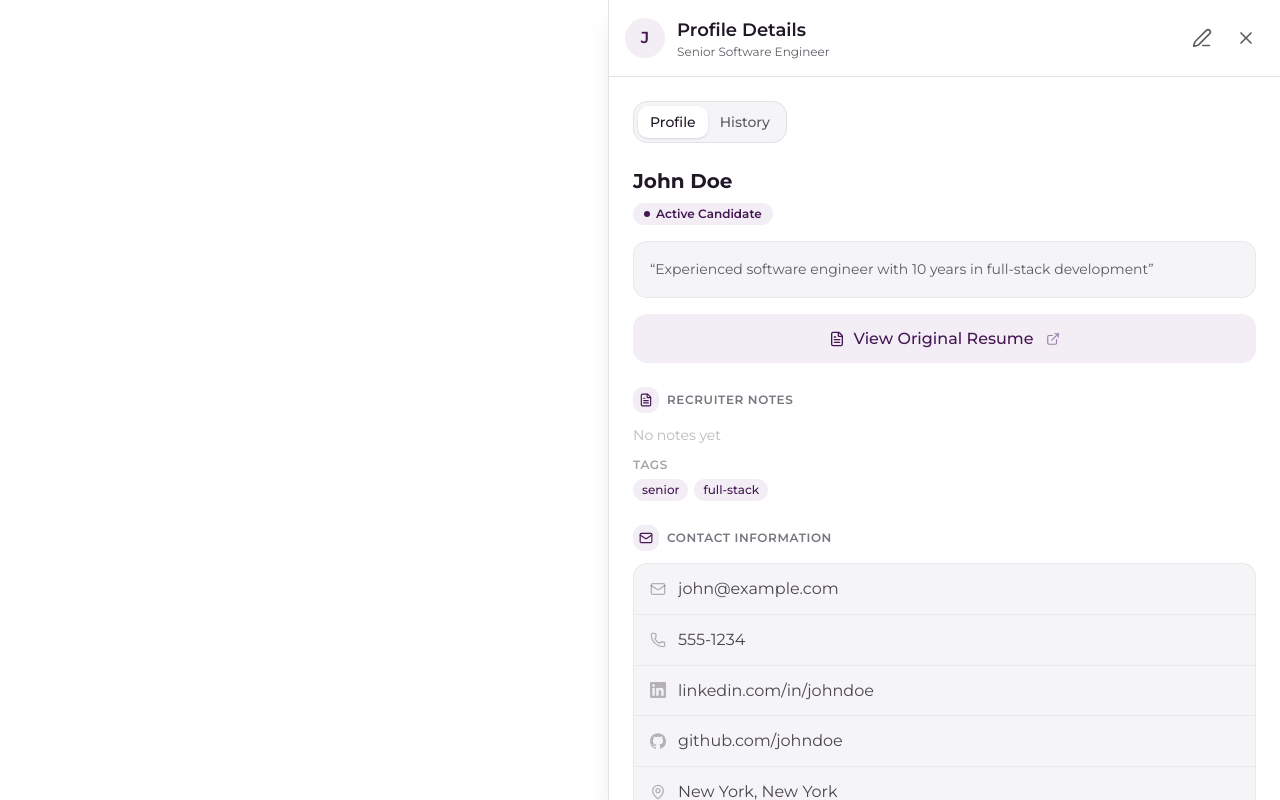
Test: ProfileDetailPanel › Edit mode toggle › enters edit mode when edit button clicked
This screenshot has width=1280, height=800.
Click the button named "Edit profile".
click(1202, 38)  # box 1184,20 -> 1220,56
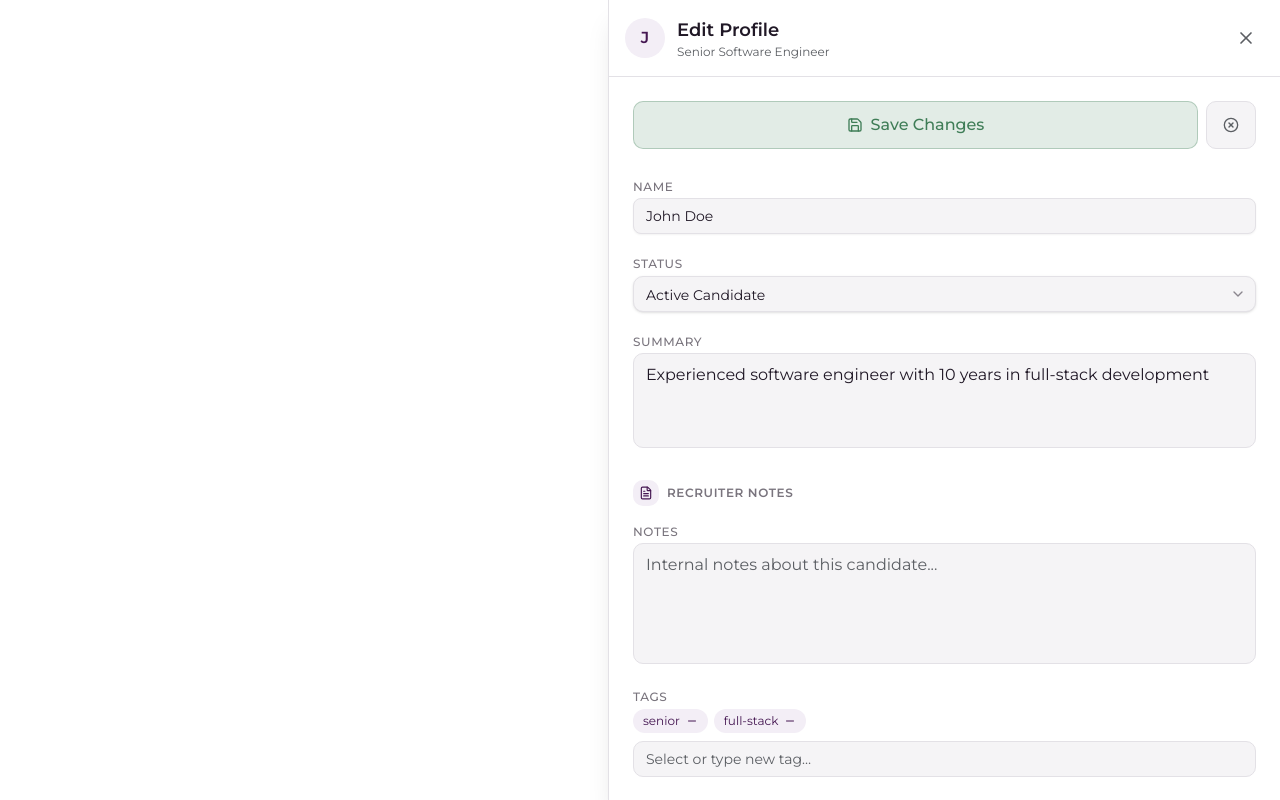
Now the heading "Edit Profile" is shown, box 677,19 -> 779,41
